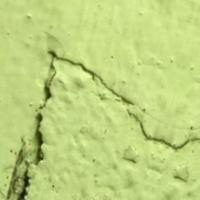crack: (7, 44, 173, 192)
